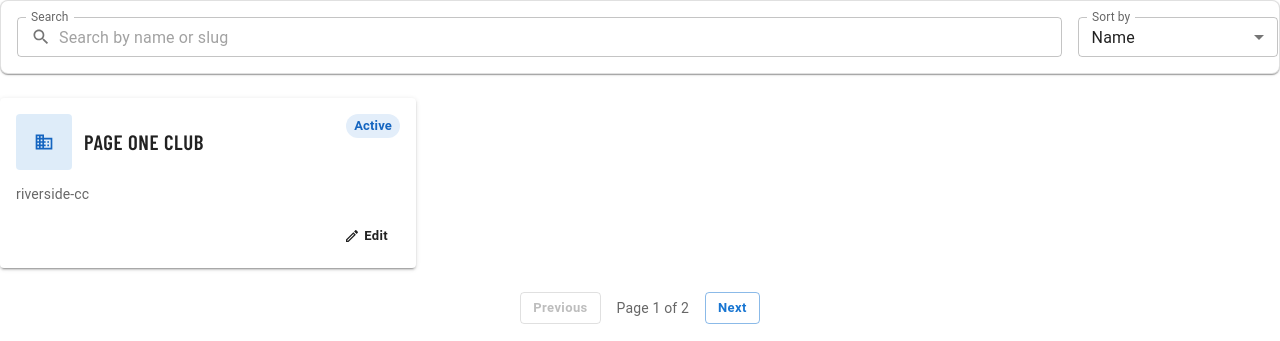
it: ClubList › Prev/Next controls respect totalPages
Expected: the heading "Page One Club" is shown, [84,130,204,154]
Expected: the button "Previous" is disabled, [520,292,601,324]
Click the button "Next": (732,308) [705,292,760,324]
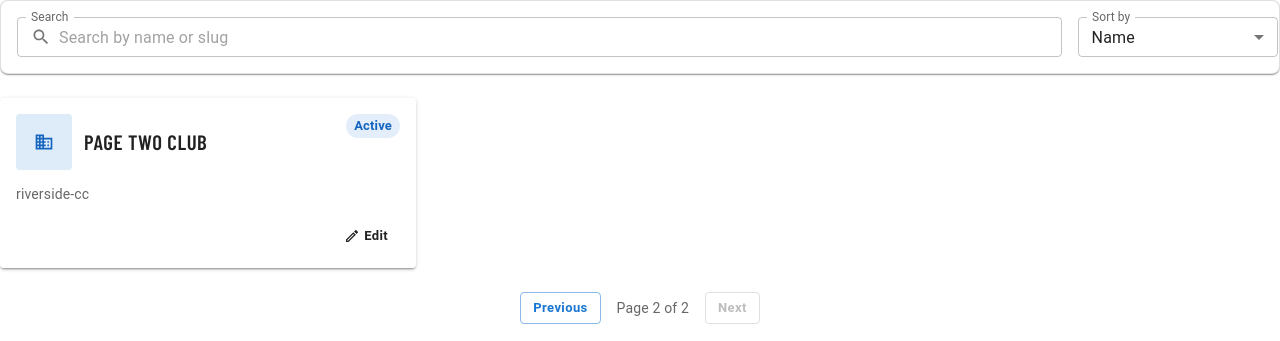
Expected: the heading "Page Two Club" is shown, [84,130,207,154]
Expected: the button "Next" is disabled, [705,292,760,324]
